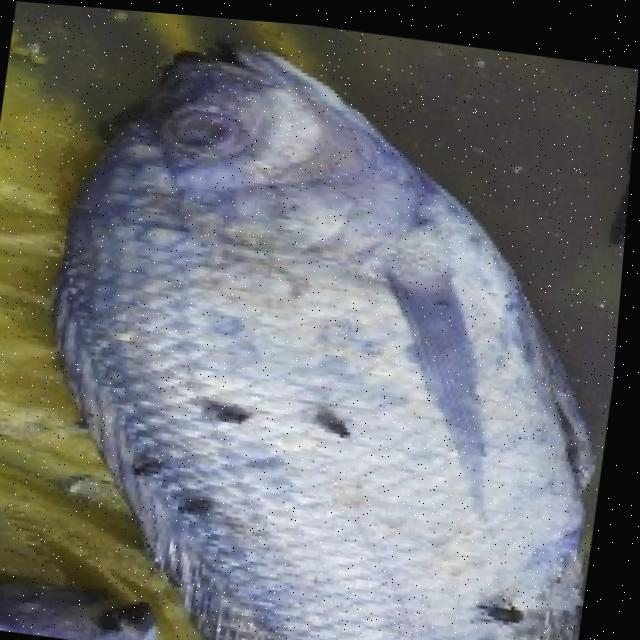Non-Fresh: (107, 205, 528, 598), (142, 84, 269, 188)
